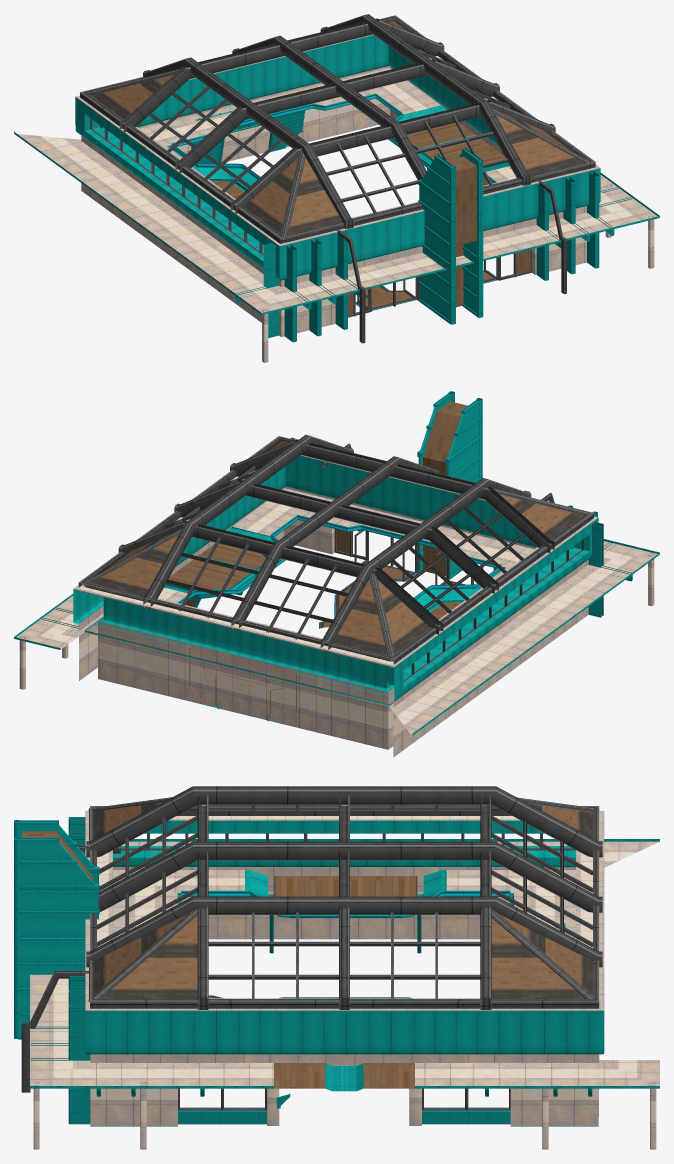
File: ScienceBuilding_Atriums.fbx
3 views of the same model, one above another, from view 1: azimuth 30°, elevation 25°; view 2: azimuth 150°, elevation 25°; view 3: azimuth 270°, elevation 25° (orthographic). The views are drawn at different scales.
Parts seen in each view (by area): view 1: ScienceBuilding_Atriums; view 2: ScienceBuilding_Atriums; view 3: ScienceBuilding_Atriums.
Boxes of the visible parts, left/top/right/bottom form: ScienceBuilding_Atriums: left=14, top=14, right=659, bottom=362; ScienceBuilding_Atriums: left=14, top=391, right=659, bottom=757; ScienceBuilding_Atriums: left=14, top=786, right=659, bottom=1149.
Bounding box in the file's own units: 4461 × 1665 × 4883.
